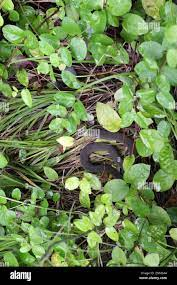snakeweed: (13, 30, 158, 128)
